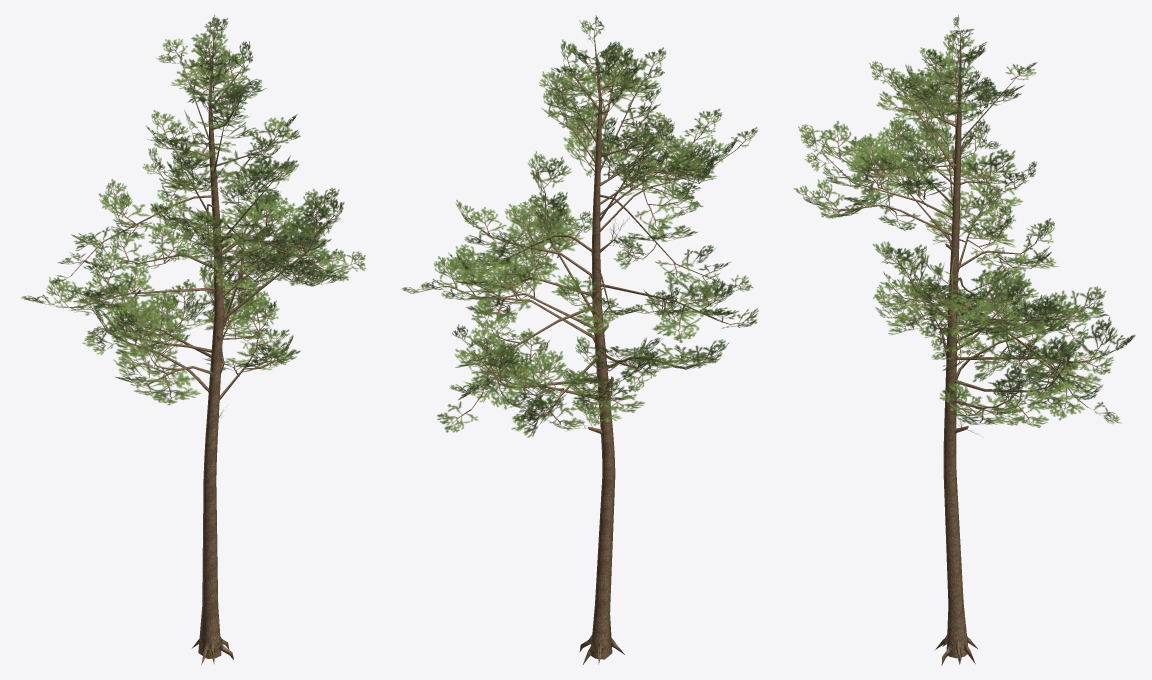
File: pine-large_1-lod2.gltf
3 renders of one model, left to right at view 1: azimuth 30°, elevation 25°; view 2: azimuth 150°, elevation 25°; view 3: azimuth 270°, elevation 25°, orthographic.
Visible parts, largest first — view 1: Pine_large_1_LOD2_Clusters_Mat_0, Pine_large_1_LOD2_Bark_Mat_0; view 2: Pine_large_1_LOD2_Clusters_Mat_0, Pine_large_1_LOD2_Bark_Mat_0; view 3: Pine_large_1_LOD2_Clusters_Mat_0, Pine_large_1_LOD2_Bark_Mat_0.
Part boxes in pixels (left/top/right/bottom): Pine_large_1_LOD2_Clusters_Mat_0: left=21, top=15, right=365, bottom=417; Pine_large_1_LOD2_Bark_Mat_0: left=56, top=33, right=341, bottom=664; Pine_large_1_LOD2_Clusters_Mat_0: left=402, top=15, right=758, bottom=437; Pine_large_1_LOD2_Bark_Mat_0: left=434, top=34, right=737, bottom=664; Pine_large_1_LOD2_Clusters_Mat_0: left=793, top=15, right=1135, bottom=434; Pine_large_1_LOD2_Bark_Mat_0: left=822, top=34, right=1107, bottom=665.
Bounding box in the file's own units: 17.12 × 31.81 × 15.45.
2 materials, 2 textured.
